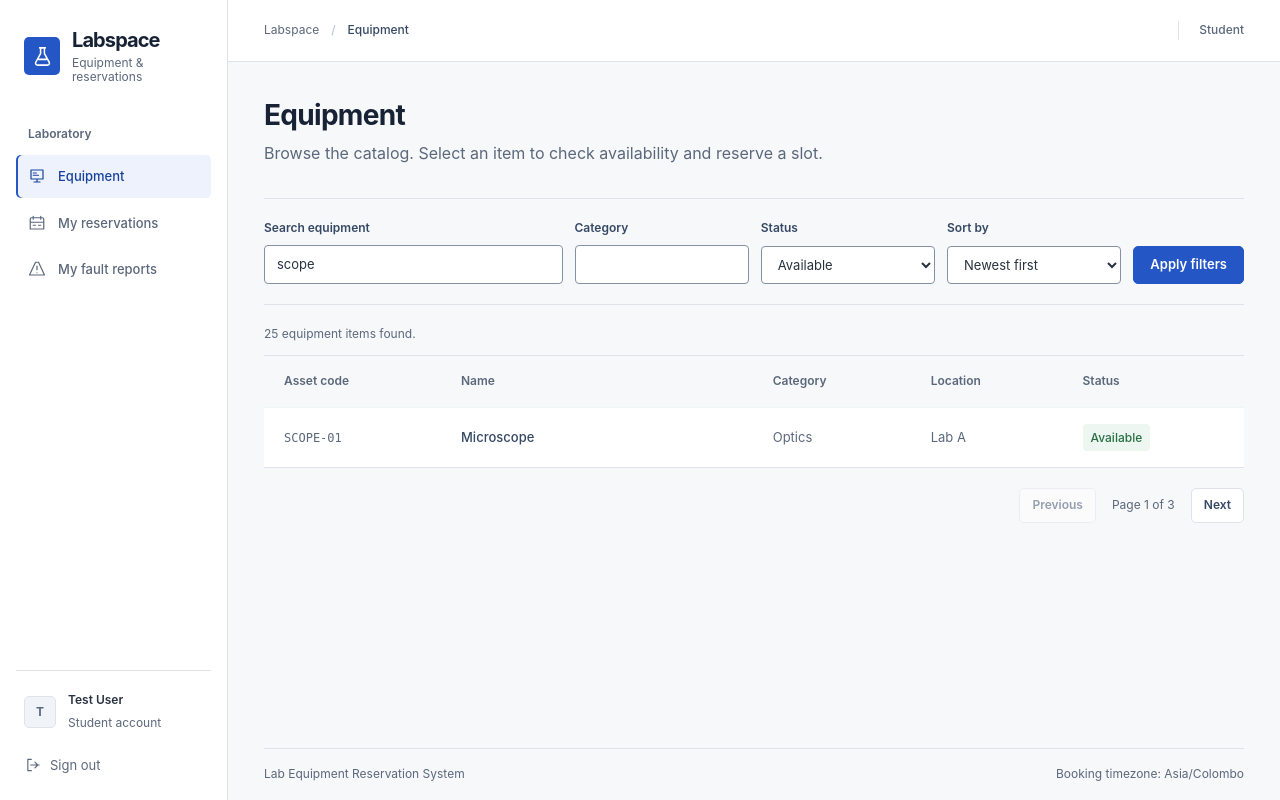
it: pagination retains filters and updates navigation controls
The image size is (1280, 800).
Check: the link "Microscope" is shown, box x1=461 y1=429 x2=534 y2=445
Check: the button "Previous" is disabled, box x1=1019 y1=488 x2=1096 y2=523
What coordinates should you click on to do the following:
click the button "Next"
I would click on:
 (1217, 505)
Its box is x1=1191 y1=488 x2=1244 y2=523.
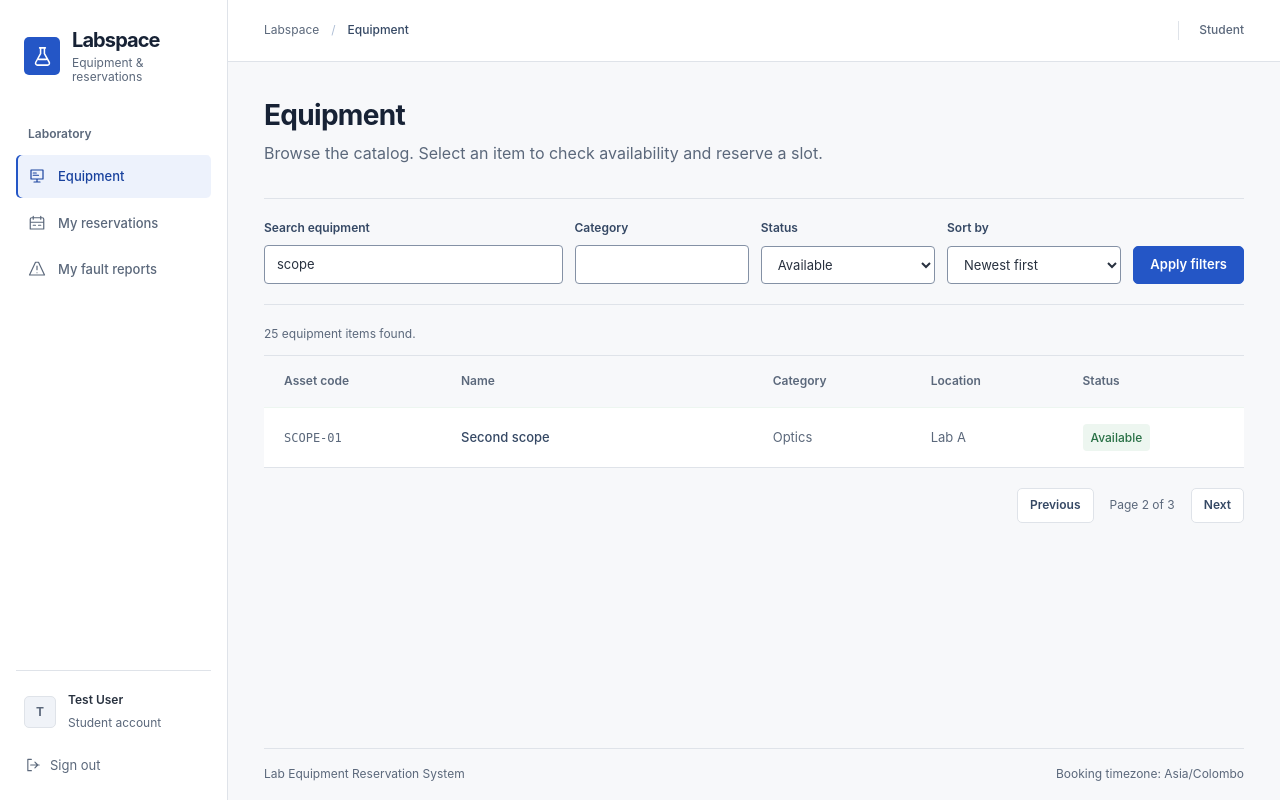
Check: the link "Second scope" is shown, box x1=461 y1=429 x2=550 y2=445
Check: the text "Page 2 of 3" is shown, box x1=1110 y1=496 x2=1175 y2=515
Check: the button "Previous" is enabled, box x1=1017 y1=488 x2=1094 y2=523
